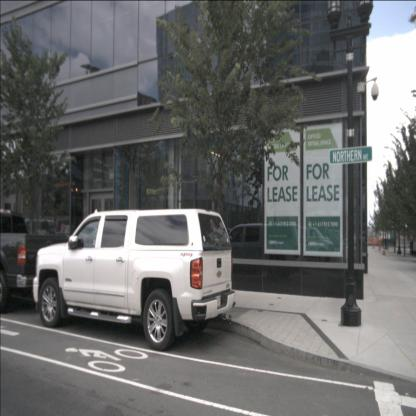movable_object-trafficcone: (382, 244, 386, 256), (372, 237, 375, 249)
vehicle-car: (286, 227, 334, 261)
vehicle-truck: (33, 208, 236, 352), (0, 208, 69, 320), (212, 221, 304, 280)
